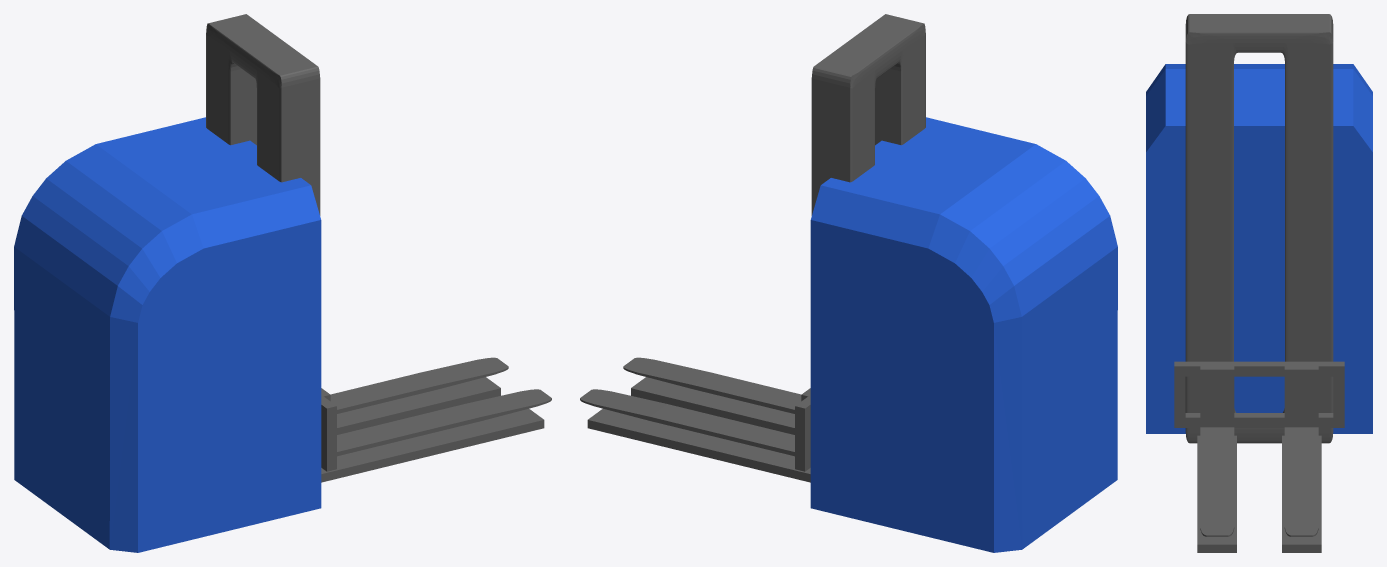
Rendered from agv.dae.
3 views of the same model, side by side, from view 1: azimuth 30°, elevation 25°; view 2: azimuth 150°, elevation 25°; view 3: azimuth 270°, elevation 25° (orthographic). The views are drawn at different scales.
Visible parts, largest first — view 1: Cube.002, Cube.003, Cube.001; view 2: Cube.002, Cube.003, Cube.001; view 3: Cube.002, Cube.003, Cube.001.
Boxes of the visible parts, left/top/right/bottom form: Cube.002: left=14, top=117, right=321, bottom=552; Cube.003: left=206, top=14, right=544, bottom=482; Cube.001: left=321, top=357, right=551, bottom=471; Cube.002: left=810, top=117, right=1117, bottom=552; Cube.003: left=587, top=14, right=925, bottom=482; Cube.001: left=580, top=357, right=810, bottom=471; Cube.002: left=1146, top=64, right=1372, bottom=433; Cube.003: left=1185, top=14, right=1333, bottom=552; Cube.001: left=1174, top=361, right=1344, bottom=536.
Bounding box in the file's own units: 2.3 × 1 × 2.
